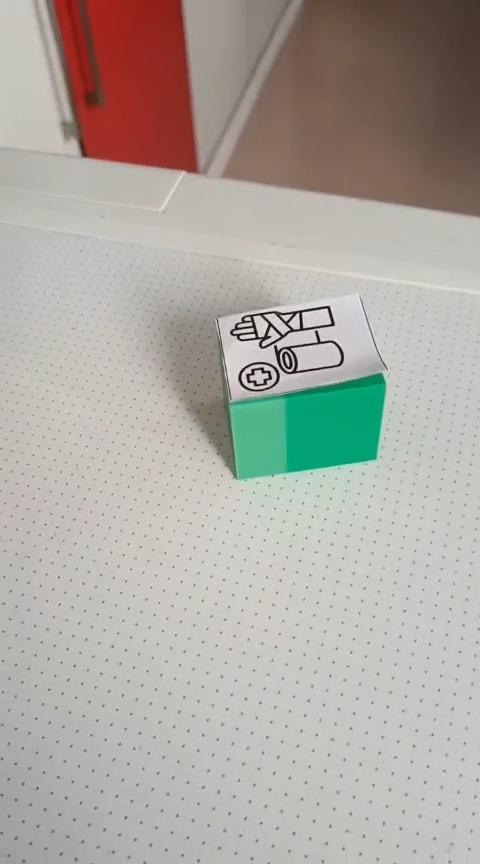Bandages: (217, 294, 386, 480)
